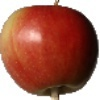apple: (1, 5, 100, 97)
